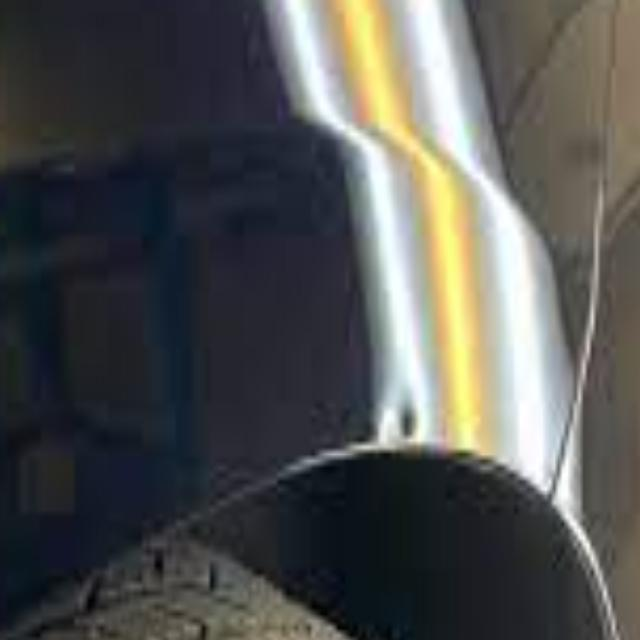dents: (378, 380, 438, 463)
